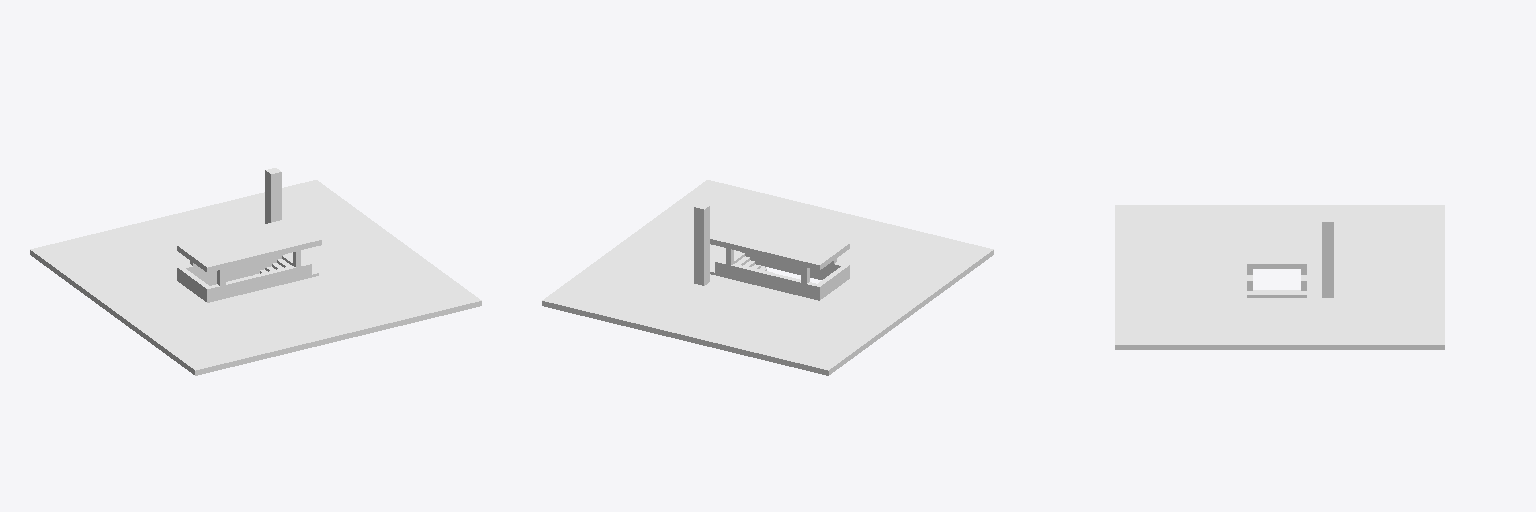
The model's file is Subway.obj.
The picture shows the model from 3 angles: view 1: azimuth 30°, elevation 25°; view 2: azimuth 150°, elevation 25°; view 3: azimuth 270°, elevation 25°; orthographic projection.
Size of the model in its own units: 110 by 42 by 110.